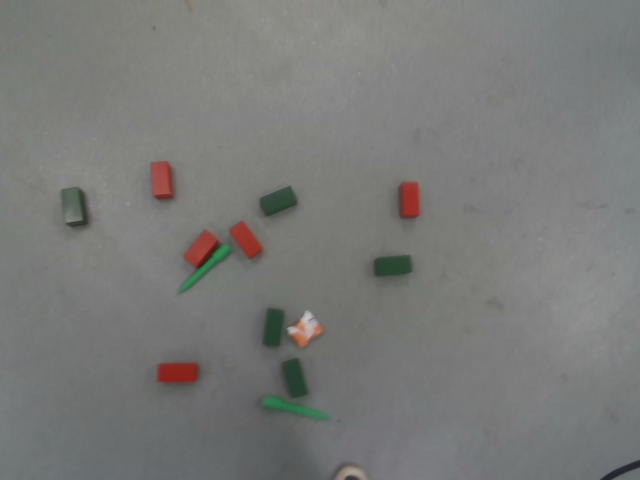Probe: (176, 240, 233, 297), (258, 394, 334, 423)
